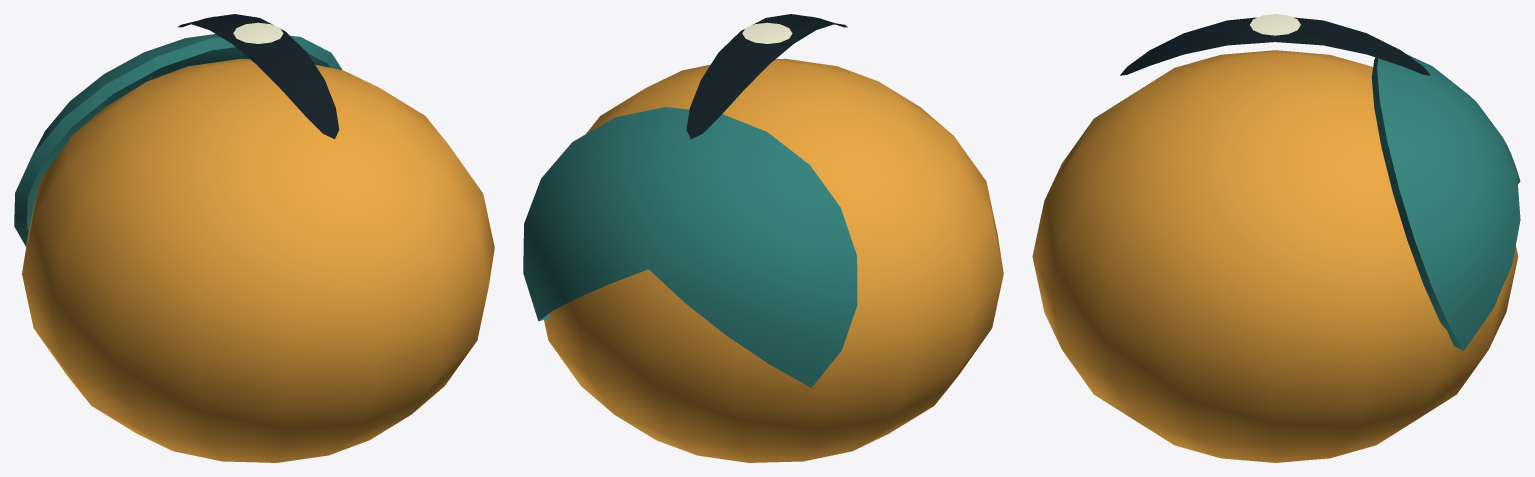
Rendered from eye_reptile.glb.
3 renders of one model, left to right at view 1: azimuth 30°, elevation 25°; view 2: azimuth 150°, elevation 25°; view 3: azimuth 270°, elevation 25°, orthographic.
Visible parts, largest first — view 1: eye_reptile, eye_reptile_lid, eye_reptile_pupil; view 2: eye_reptile, eye_reptile_lid, eye_reptile_pupil; view 3: eye_reptile, eye_reptile_lid, eye_reptile_pupil.
Part boxes in pixels (x1=…): eye_reptile: x1=22, y1=58, x2=494, y2=462; eye_reptile_lid: x1=14, y1=34, x2=342, y2=246; eye_reptile_pupil: x1=178, y1=14, x2=339, y2=139; eye_reptile: x1=544, y1=58, x2=1003, y2=462; eye_reptile_lid: x1=523, y1=107, x2=857, y2=387; eye_reptile_pupil: x1=686, y1=14, x2=847, y2=138; eye_reptile: x1=1032, y1=50, x2=1518, y2=462; eye_reptile_lid: x1=1371, y1=54, x2=1520, y2=350; eye_reptile_pupil: x1=1120, y1=14, x2=1430, y2=75.
Size of the model in its own units: 0.38 by 0.3568 by 0.3818.
